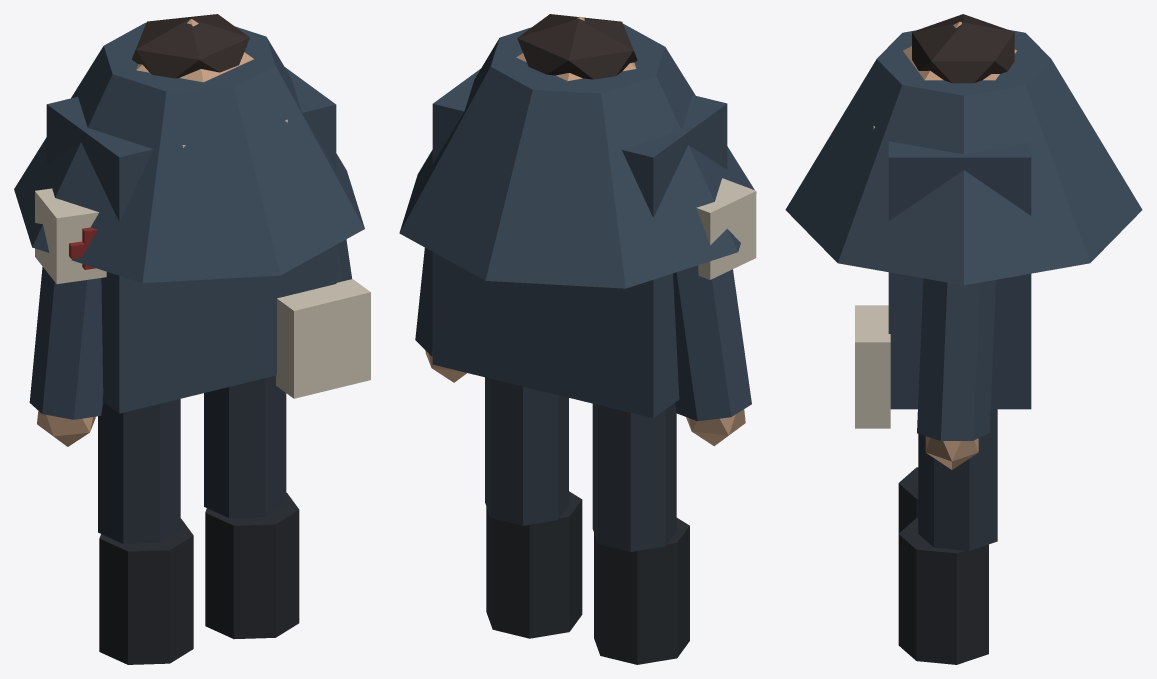
The model's file is npc-nurse-lin.glb.
3 views of the same model, side by side, from view 1: azimuth 30°, elevation 25°; view 2: azimuth 150°, elevation 25°; view 3: azimuth 270°, elevation 25° (orthographic). The views are drawn at different scales.
Parts seen in each view (by area): view 1: NurseLinShoulderCape, NurseLinTorso, NurseLinBoot1, NurseLinBoot-1, NurseLinLeg1, NurseLinLeg-1, NurseLinMedicalPouch, NurseLinArm1, NurseLinHair, NurseLinArmband, NurseLinHand1, NurseLinHead (+1 smaller); view 2: NurseLinShoulderCape, NurseLinTorso, NurseLinLeg1, NurseLinBoot-1, NurseLinLeg-1, NurseLinBoot1, NurseLinArm1, NurseLinHair, NurseLinArmband, NurseLinArm-1, NurseLinHand1; view 3: NurseLinShoulderCape, NurseLinTorso, NurseLinArm-1, NurseLinBoot-1, NurseLinLeg-1, NurseLinHair, NurseLinMedicalPouch, NurseLinHand-1, NurseLinBoot1.
Boxes of the visible parts, <box> form: NurseLinShoulderCape: <box>14,23,364,283</box>; NurseLinTorso: <box>46,67,336,413</box>; NurseLinBoot1: <box>99,518,193,664</box>; NurseLinBoot-1: <box>205,492,299,639</box>; NurseLinLeg1: <box>98,399,180,543</box>; NurseLinLeg-1: <box>204,375,286,517</box>; NurseLinMedicalPouch: <box>276,279,370,398</box>; NurseLinArm1: <box>29,267,103,419</box>; NurseLinHair: <box>132,14,249,78</box>; NurseLinArmband: <box>35,188,106,283</box>; NurseLinHand1: <box>37,411,95,446</box>; NurseLinHead: <box>136,19,253,82</box>; NurseLinShoulderCape: <box>399,23,754,288</box>; NurseLinTorso: <box>432,68,727,418</box>; NurseLinLeg1: <box>592,403,676,551</box>; NurseLinBoot-1: <box>486,491,582,638</box>; NurseLinLeg-1: <box>485,377,568,525</box>; NurseLinBoot1: <box>594,518,689,664</box>; NurseLinArm1: <box>673,265,751,421</box>; NurseLinHair: <box>517,14,637,79</box>; NurseLinArmband: <box>696,178,756,279</box>; NurseLinArm-1: <box>415,247,432,356</box>; NurseLinHand1: <box>686,409,745,446</box>; NurseLinShoulderCape: <box>785,29,1142,285</box>; NurseLinTorso: <box>888,141,1031,409</box>; NurseLinArm-1: <box>917,278,995,440</box>; NurseLinBoot-1: <box>898,518,988,664</box>; NurseLinLeg-1: <box>918,409,997,550</box>; NurseLinHair: <box>912,14,1014,83</box>; NurseLinMedicalPouch: <box>855,305,890,428</box>; NurseLinHand-1: <box>925,436,978,469</box>; NurseLinBoot1: <box>898,467,918,533</box>.
Size of the model in its own units: 0.9103 by 1.66 by 0.9.
